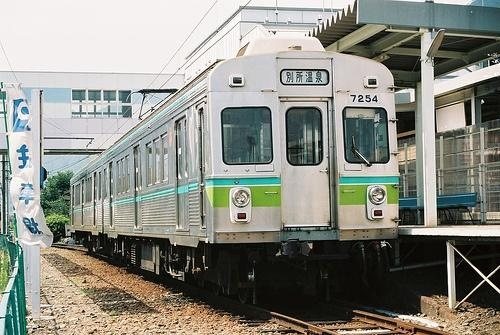train: (68, 51, 404, 310)
